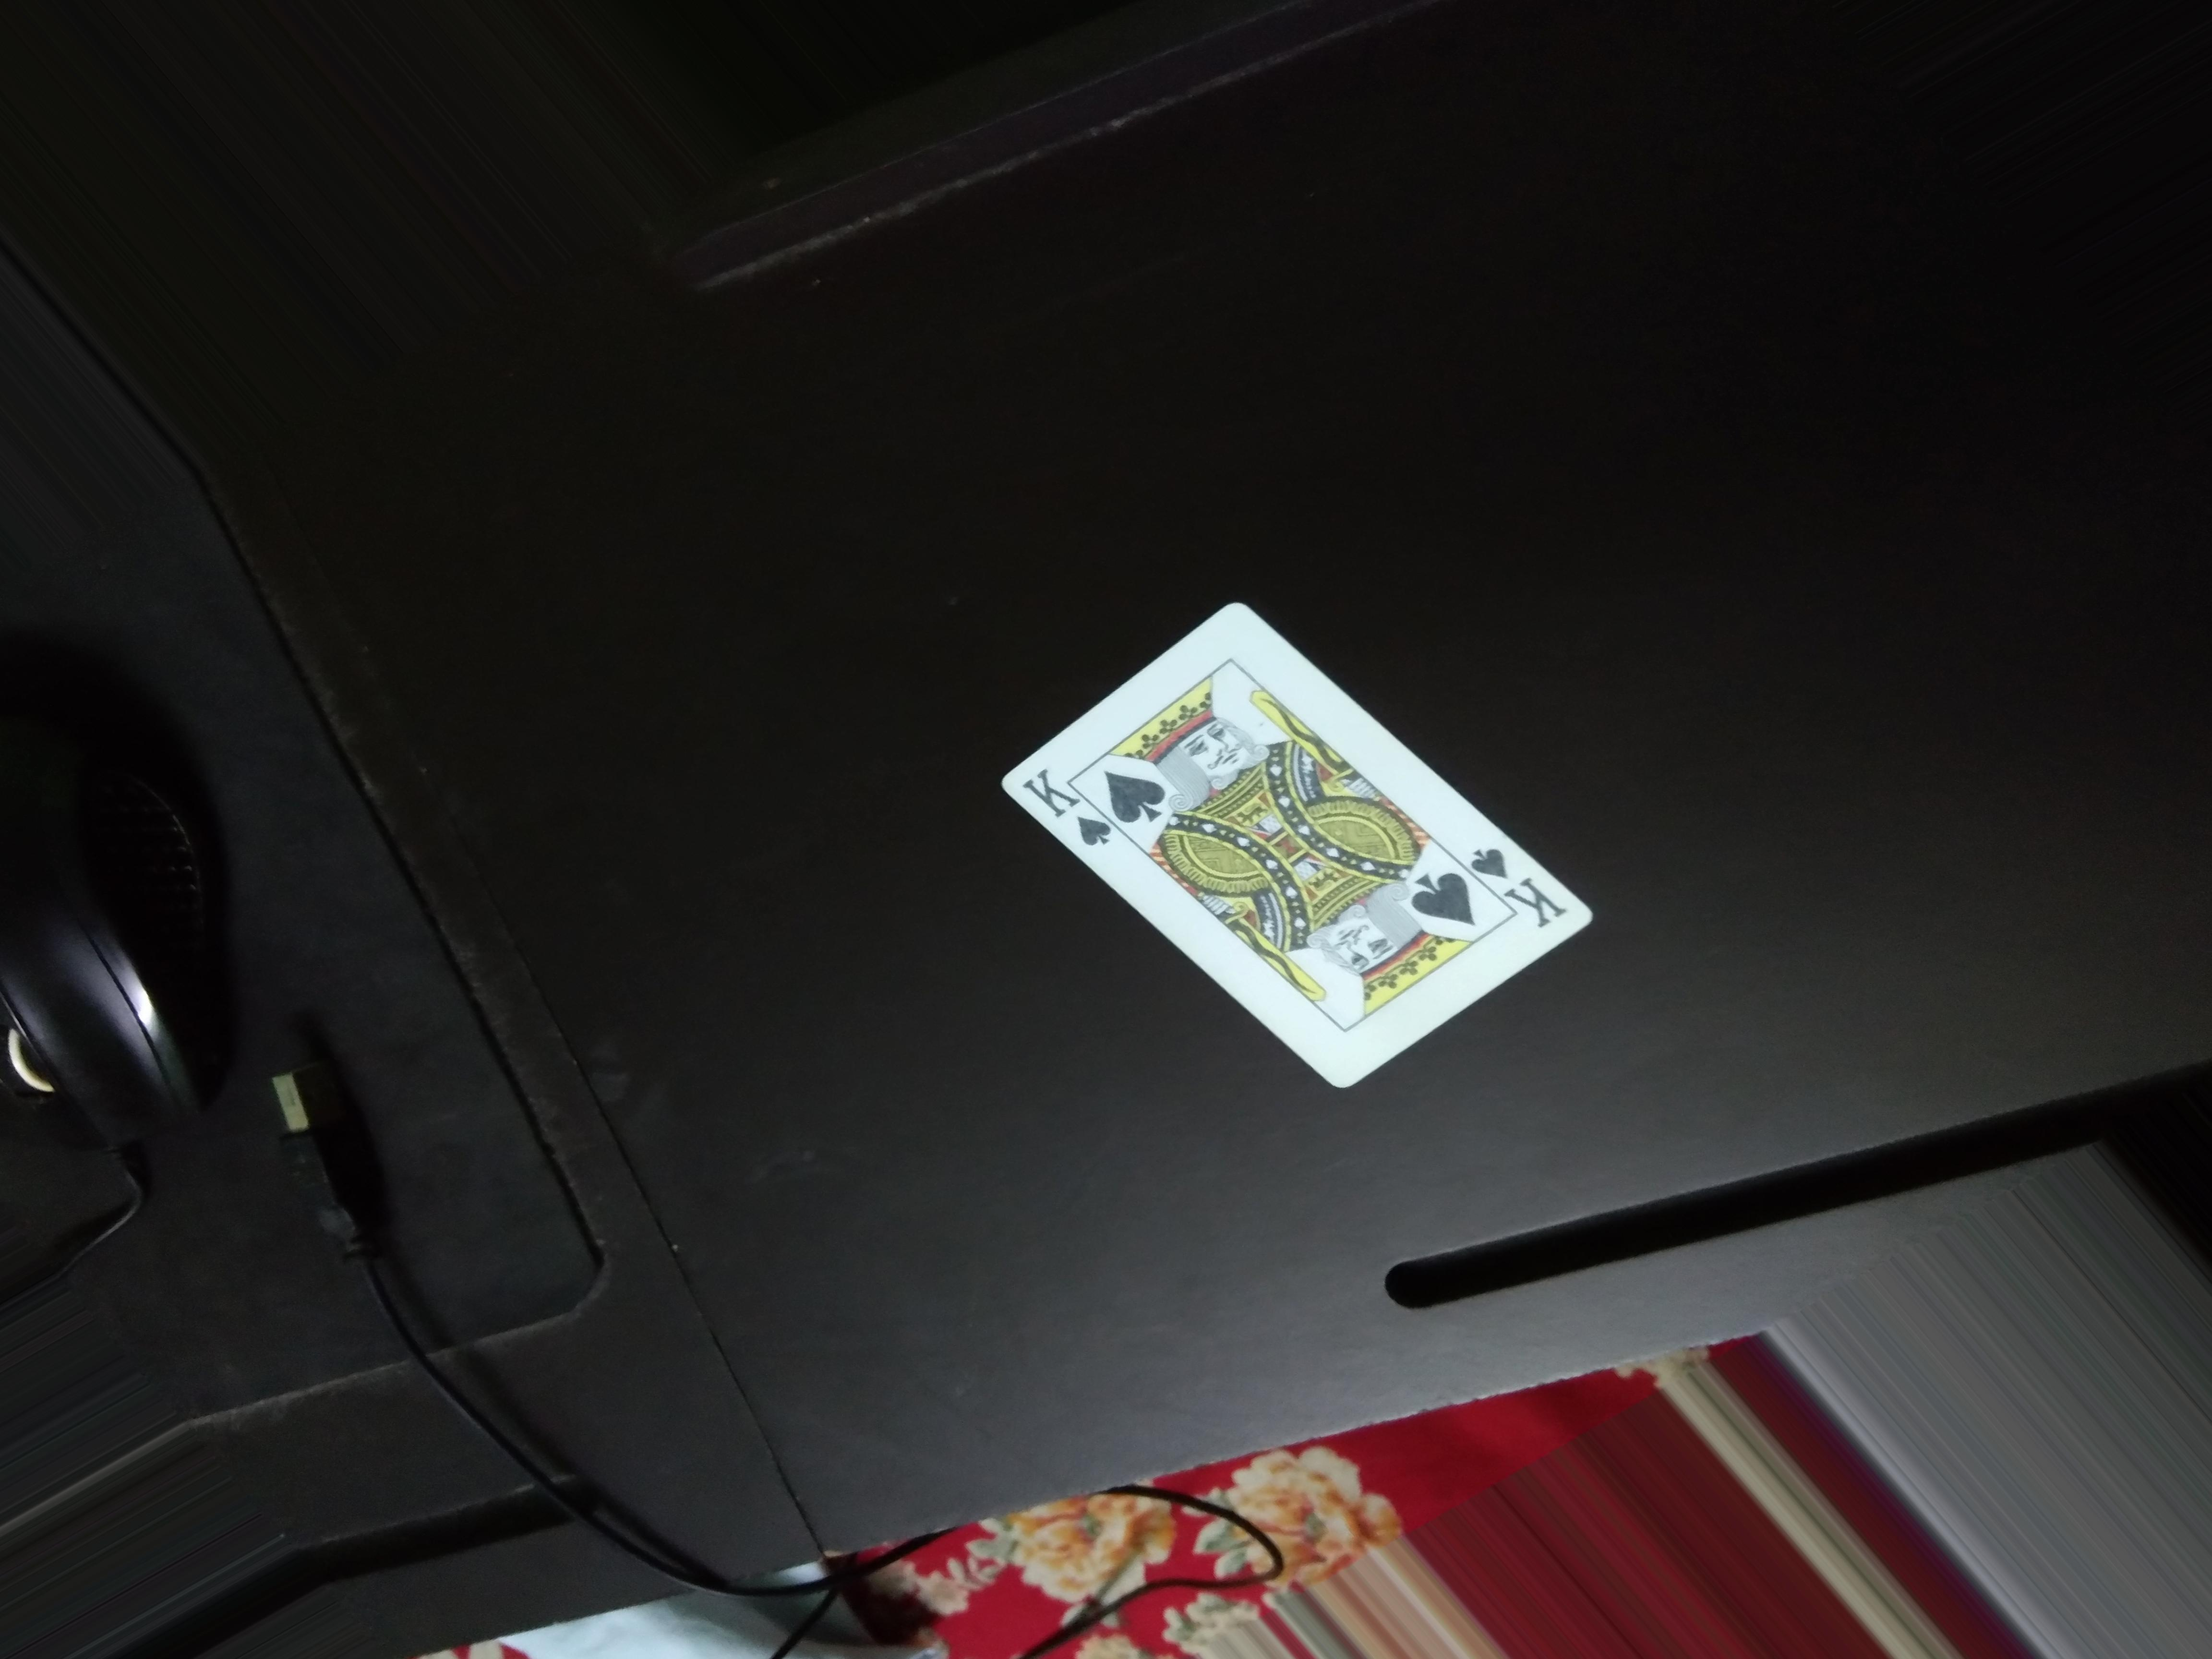KS: (1001, 755, 1127, 856)
